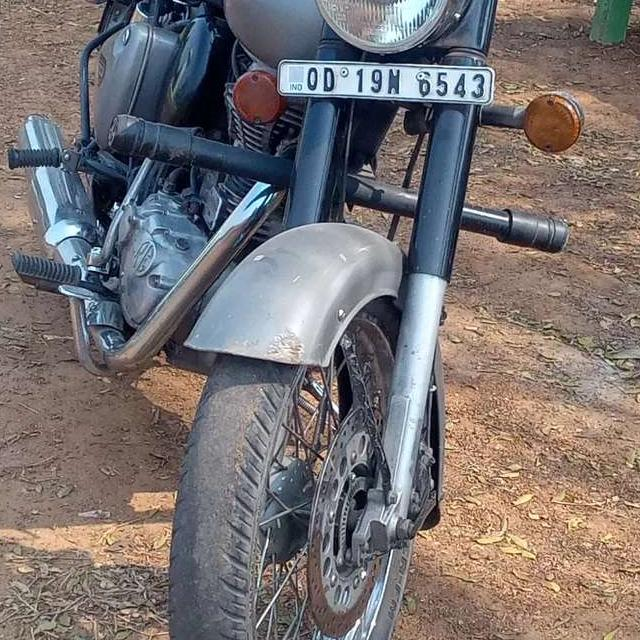Indian_Number_Plate: (280, 63, 493, 103)
